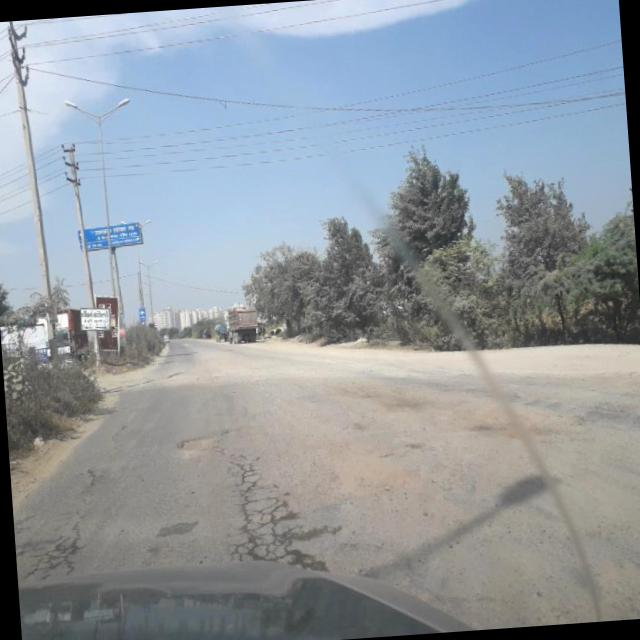crack: (208, 422, 338, 570), (15, 445, 106, 583)
pothole: (468, 389, 576, 458), (323, 436, 430, 505), (333, 365, 442, 423), (168, 422, 235, 455)
